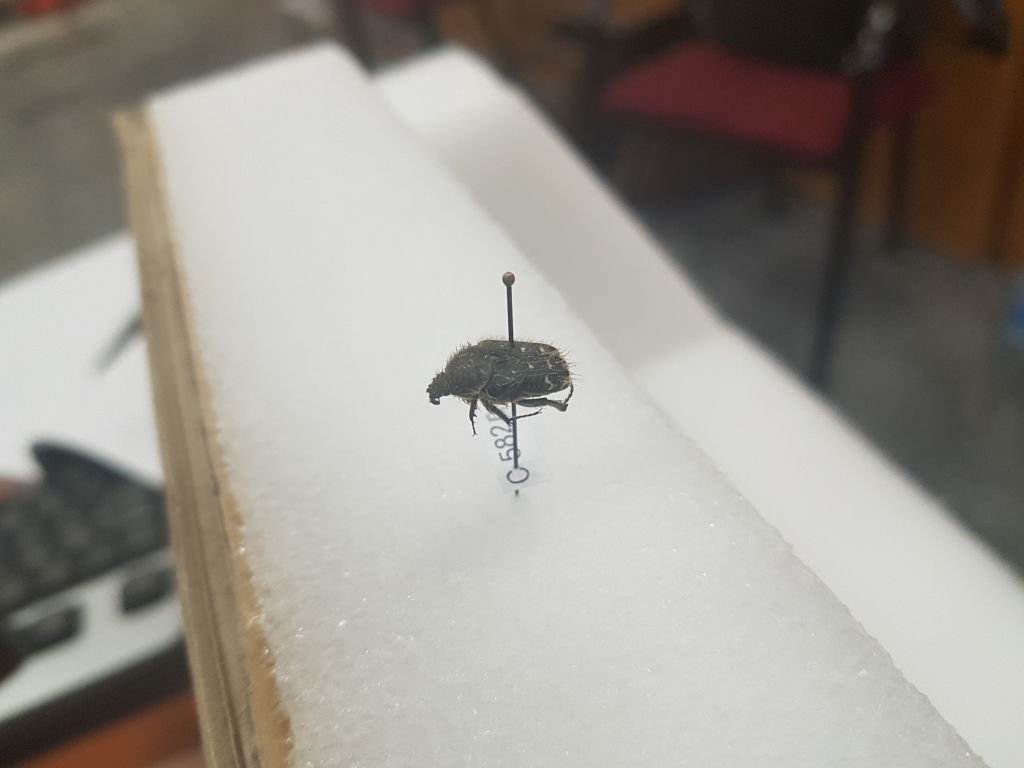Tropinota_hirta: (414, 329, 593, 429)
